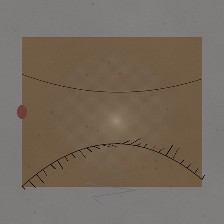foreign_body_visible: (166, 101, 193, 123)
